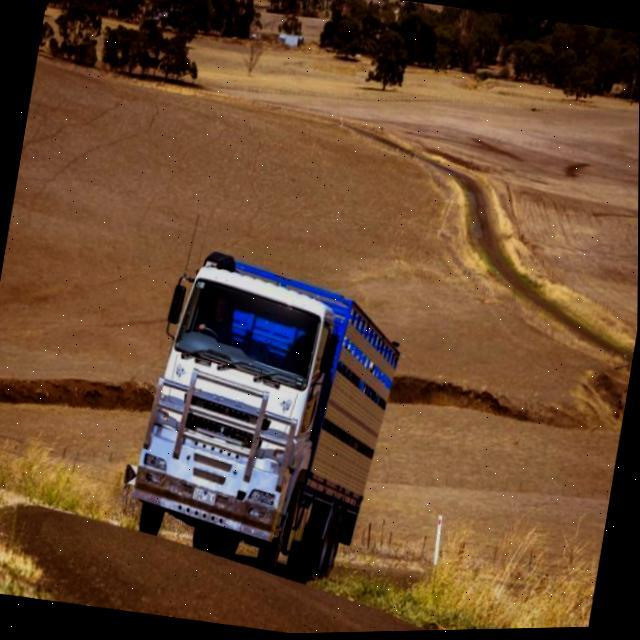truck: (111, 233, 415, 596)
